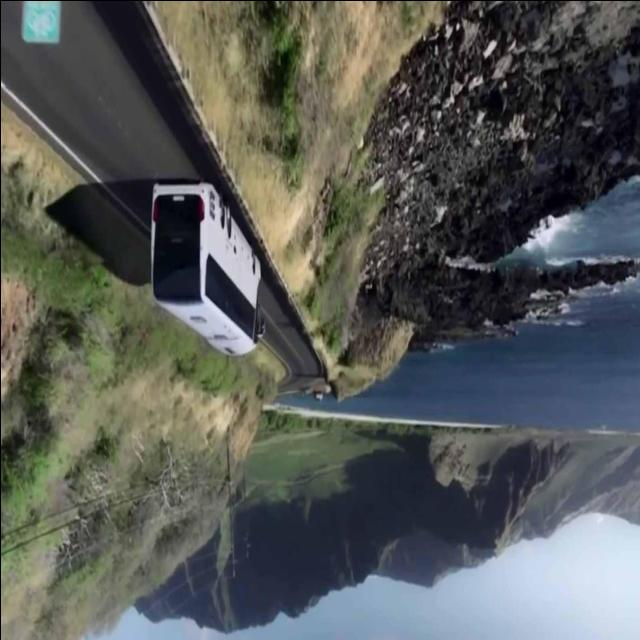bus: (134, 150, 284, 388)
